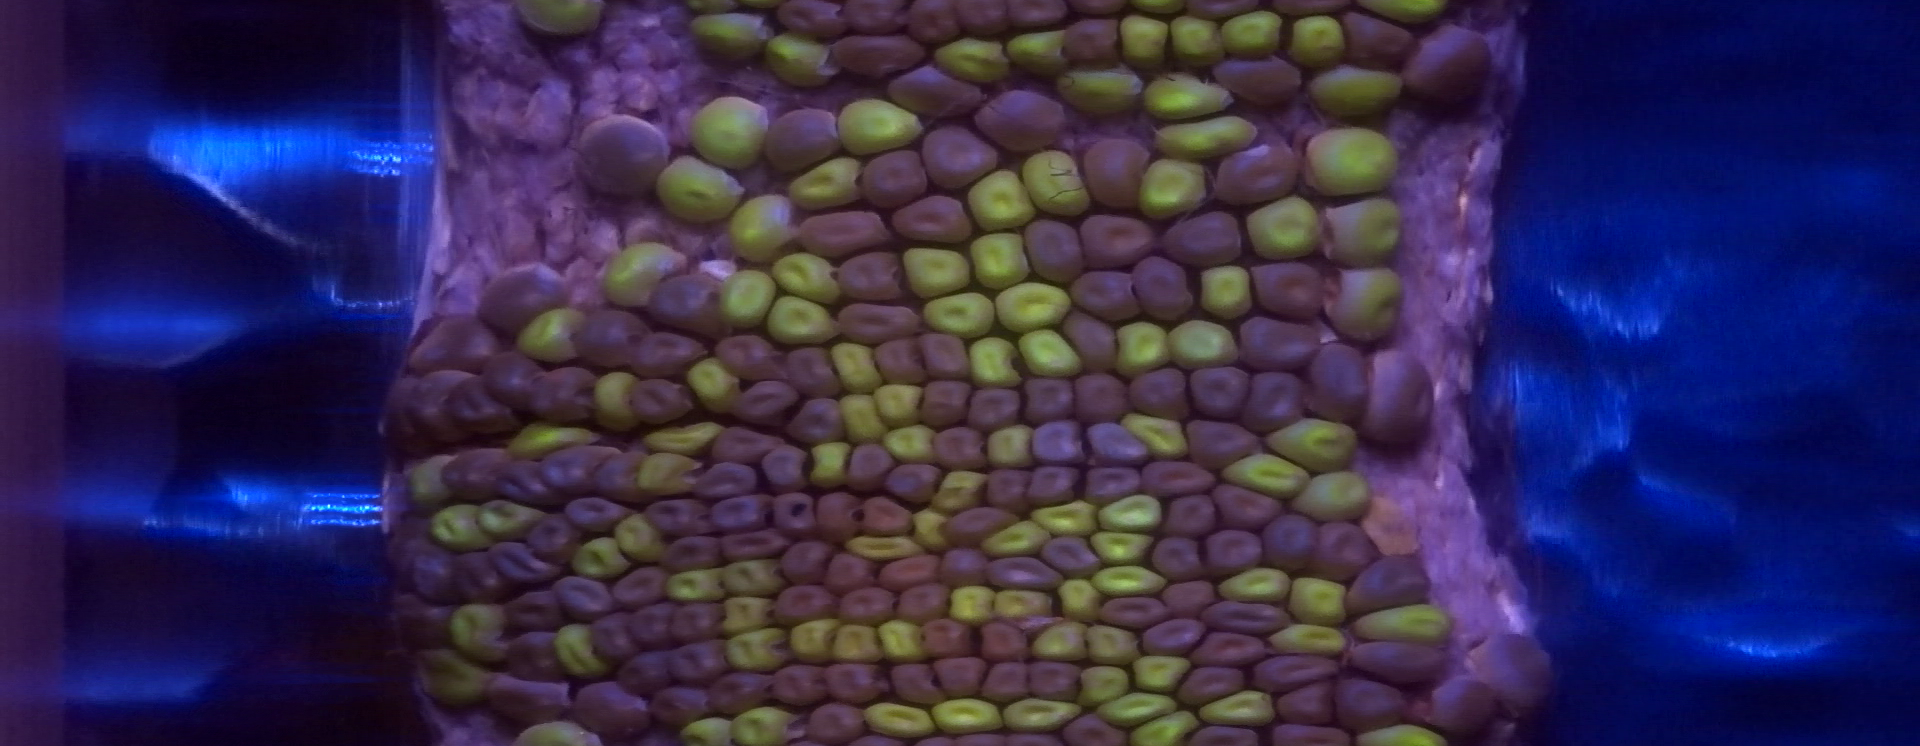fluorescent: (1303, 127, 1396, 195), (1315, 265, 1398, 337), (687, 97, 767, 168), (598, 246, 686, 307), (835, 98, 926, 154), (658, 159, 741, 220), (1269, 414, 1356, 472), (1247, 201, 1320, 265), (758, 29, 840, 86), (1025, 149, 1093, 217), (1308, 67, 1400, 118), (725, 197, 800, 258), (1140, 73, 1233, 120), (902, 236, 969, 300), (964, 169, 1032, 230), (1329, 205, 1402, 261), (1354, 604, 1453, 646), (785, 157, 864, 207), (1226, 452, 1309, 500), (933, 31, 1007, 85), (1150, 118, 1258, 154), (1138, 163, 1209, 217), (773, 247, 838, 305), (1171, 318, 1240, 371), (1056, 70, 1142, 111), (425, 650, 490, 704), (1120, 409, 1193, 457), (691, 13, 768, 58), (1292, 473, 1367, 518), (973, 232, 1029, 292), (516, 420, 599, 459), (516, 311, 580, 361), (1221, 10, 1282, 61), (1288, 13, 1344, 69), (453, 601, 507, 659), (718, 269, 770, 328), (1020, 331, 1079, 383), (924, 295, 996, 338), (613, 514, 672, 566), (773, 299, 838, 345), (996, 288, 1070, 328), (551, 624, 605, 679), (682, 353, 738, 405), (724, 626, 789, 671), (999, 29, 1069, 71), (430, 502, 482, 557), (969, 334, 1020, 391), (1199, 690, 1280, 725), (514, 1, 604, 33), (828, 341, 879, 396), (1201, 267, 1255, 318), (1116, 320, 1164, 376), (1287, 576, 1344, 624), (1096, 691, 1176, 725), (478, 499, 542, 540), (596, 363, 640, 424), (636, 452, 702, 492), (1119, 13, 1164, 72), (1005, 699, 1082, 734), (411, 451, 458, 507), (847, 532, 924, 565), (983, 519, 1046, 559), (864, 703, 936, 737), (929, 699, 999, 734), (1169, 17, 1221, 62), (1216, 571, 1292, 601), (983, 425, 1036, 469), (1037, 499, 1100, 535), (1029, 620, 1091, 657), (934, 468, 982, 516), (1100, 491, 1160, 529), (721, 593, 774, 636), (1127, 710, 1194, 744), (576, 537, 623, 583), (730, 709, 798, 741), (840, 393, 883, 443), (1267, 626, 1344, 653), (1130, 658, 1193, 691), (880, 425, 936, 462), (831, 624, 878, 666), (791, 624, 840, 664), (662, 570, 724, 601), (1093, 570, 1166, 597), (721, 561, 780, 594), (909, 508, 951, 554), (811, 435, 847, 488), (869, 383, 918, 423), (1087, 624, 1138, 661), (997, 587, 1054, 620), (1079, 669, 1131, 704), (1358, 1, 1451, 21), (1357, 722, 1444, 742), (644, 426, 716, 451), (1090, 530, 1152, 559), (509, 722, 594, 742), (878, 622, 924, 659), (1059, 579, 1103, 616), (951, 589, 992, 622), (673, 719, 740, 739)
nonfluorescent: (1395, 18, 1501, 120), (567, 113, 678, 208), (1354, 344, 1442, 457), (1460, 628, 1560, 714), (471, 257, 576, 338), (1209, 131, 1305, 212), (402, 310, 511, 379), (969, 85, 1071, 154), (1338, 550, 1439, 619), (647, 269, 740, 343), (397, 366, 478, 451), (1300, 341, 1378, 429), (758, 103, 847, 176), (882, 64, 992, 122), (1075, 207, 1167, 277), (1207, 48, 1305, 110), (1153, 208, 1251, 271), (1078, 135, 1153, 214), (1232, 309, 1325, 374), (484, 668, 579, 730), (1338, 6, 1427, 73), (1309, 518, 1391, 590), (437, 374, 524, 441), (1342, 636, 1458, 686), (915, 122, 1003, 189), (1176, 412, 1266, 475), (571, 306, 658, 372), (887, 187, 978, 250), (1127, 254, 1205, 326), (830, 29, 931, 86), (1231, 367, 1310, 439), (1015, 214, 1093, 285), (1329, 673, 1416, 736), (571, 676, 660, 737), (1420, 676, 1507, 739), (520, 363, 604, 428), (534, 442, 624, 501), (785, 209, 896, 257), (1248, 260, 1329, 325), (829, 247, 913, 309), (1210, 477, 1297, 535), (380, 513, 444, 592), (435, 443, 513, 507), (1258, 510, 1327, 581), (478, 348, 550, 416), (1064, 267, 1147, 326), (482, 535, 569, 590), (376, 374, 436, 453), (1182, 360, 1256, 424), (984, 550, 1078, 600), (484, 454, 561, 514), (1082, 412, 1160, 472), (700, 668, 786, 722), (857, 146, 937, 203), (389, 590, 460, 654), (779, 341, 850, 403), (1059, 309, 1127, 374), (626, 328, 713, 379), (933, 502, 1029, 548), (1142, 530, 1216, 589), (443, 546, 513, 608), (833, 300, 932, 343), (500, 627, 573, 685), (1171, 661, 1250, 714), (1065, 365, 1135, 425), (1250, 650, 1344, 695), (1127, 363, 1195, 423), (708, 421, 789, 472), (1199, 599, 1298, 639), (711, 330, 782, 386), (1056, 13, 1127, 70), (1138, 454, 1223, 501), (624, 372, 697, 428), (725, 377, 802, 429), (1089, 590, 1180, 633), (523, 511, 591, 567), (638, 494, 719, 541), (1150, 575, 1228, 624), (1185, 628, 1272, 673), (781, 394, 849, 451), (863, 331, 931, 387), (549, 573, 622, 625), (1021, 655, 1091, 709), (1025, 415, 1091, 472), (764, 659, 836, 710), (769, 578, 842, 628), (562, 492, 637, 541), (817, 658, 891, 707), (921, 424, 996, 473), (1270, 677, 1344, 726), (1155, 491, 1226, 543), (768, 1, 852, 44), (842, 439, 902, 499), (918, 325, 978, 385), (689, 458, 760, 508), (973, 615, 1040, 669), (594, 451, 654, 510), (809, 485, 867, 546), (1020, 372, 1082, 429), (666, 636, 740, 684), (884, 657, 948, 712), (1033, 532, 1107, 579), (962, 383, 1026, 439), (667, 597, 733, 649), (880, 458, 947, 510), (407, 549, 464, 608), (585, 608, 643, 666), (1078, 461, 1145, 511), (621, 600, 682, 655), (645, 682, 718, 729), (1138, 612, 1213, 657), (503, 587, 573, 635), (917, 376, 973, 435), (802, 697, 869, 746), (609, 560, 673, 610), (929, 544, 996, 593), (775, 537, 836, 589), (1202, 526, 1270, 573), (857, 489, 921, 539), (893, 579, 958, 628), (1022, 462, 1082, 514), (1052, 710, 1139, 746), (980, 464, 1040, 516), (820, 551, 887, 598), (835, 1, 916, 39), (980, 655, 1035, 710), (838, 582, 902, 628), (613, 648, 680, 693), (927, 652, 989, 699), (876, 552, 951, 592), (707, 491, 775, 534), (715, 526, 792, 563), (654, 530, 718, 576), (945, 1, 1016, 42), (759, 442, 814, 494), (771, 488, 820, 544), (907, 1, 965, 48), (920, 616, 978, 661), (997, 1, 1071, 31), (1176, 724, 1265, 746)
